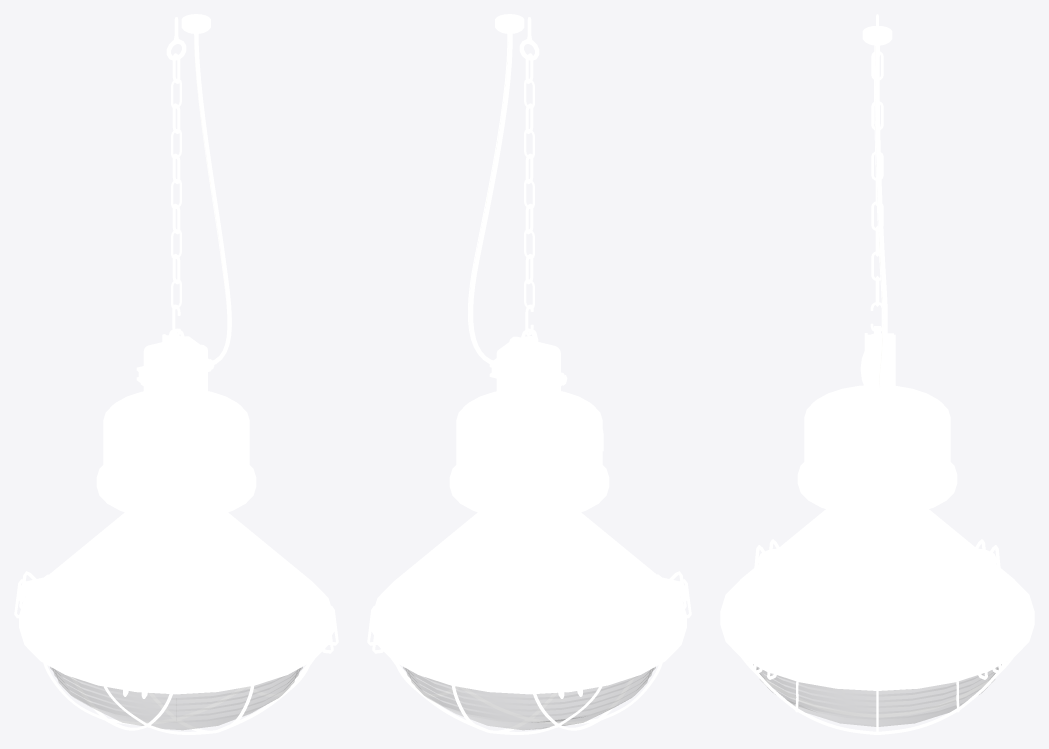
Rendered from hanging_industrial_lamp.gltf.
3 renders of one model, left to right at view 1: azimuth 30°, elevation 25°; view 2: azimuth 150°, elevation 25°; view 3: azimuth 270°, elevation 25°, orthographic.
Parts seen in each view (by area): view 1: hanging_industrial_lamp; view 2: hanging_industrial_lamp; view 3: hanging_industrial_lamp.
Boxes of the visible parts, x1,y1,x2,y2 form: hanging_industrial_lamp: (14,14,338,734); hanging_industrial_lamp: (367,14,691,734); hanging_industrial_lamp: (720,14,1034,734).
Size of the model in its own units: 0.5496 by 1.36 by 0.5496.
2 materials, 1 textured.
